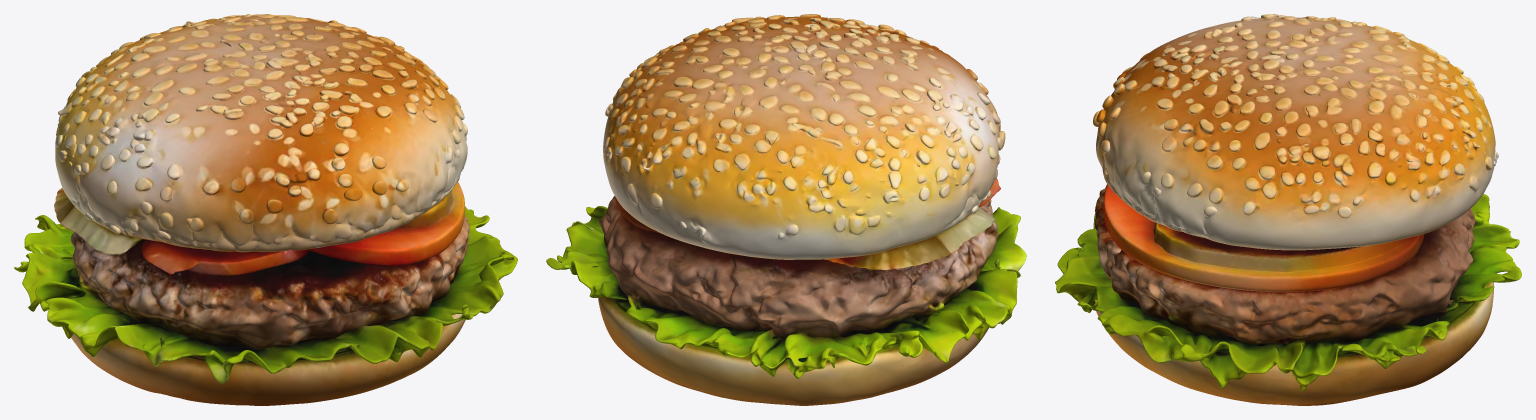
3 views of the same model, side by side, from view 1: azimuth 30°, elevation 25°; view 2: azimuth 150°, elevation 25°; view 3: azimuth 270°, elevation 25° (orthographic). The views are drawn at different scales.
Visible parts, largest first — view 1: model; view 2: model; view 3: model.
Part boxes in pixels (bbox=[...]): model: bbox=[14, 14, 517, 405]; model: bbox=[546, 14, 1026, 405]; model: bbox=[1055, 14, 1521, 405].
Size of the model in its own units: 1.86 by 1.17 by 1.79.
1 material, 1 textured.
